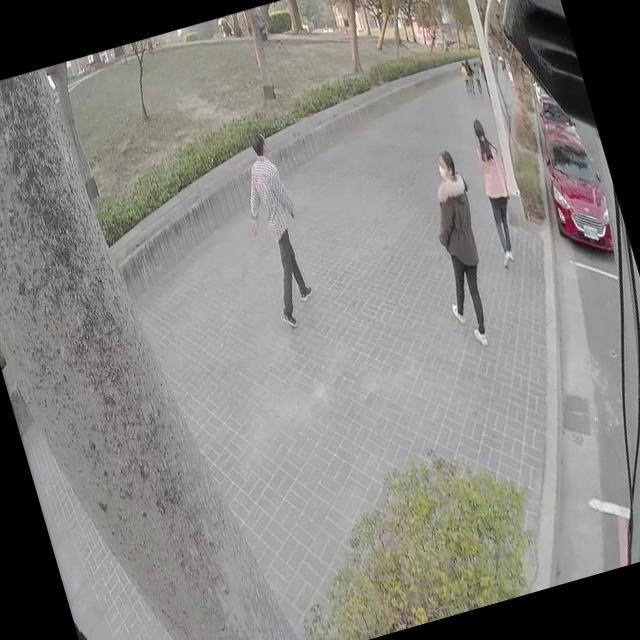person: (222, 122, 324, 330), (408, 147, 508, 349), (462, 115, 530, 268), (73, 602, 158, 640)
